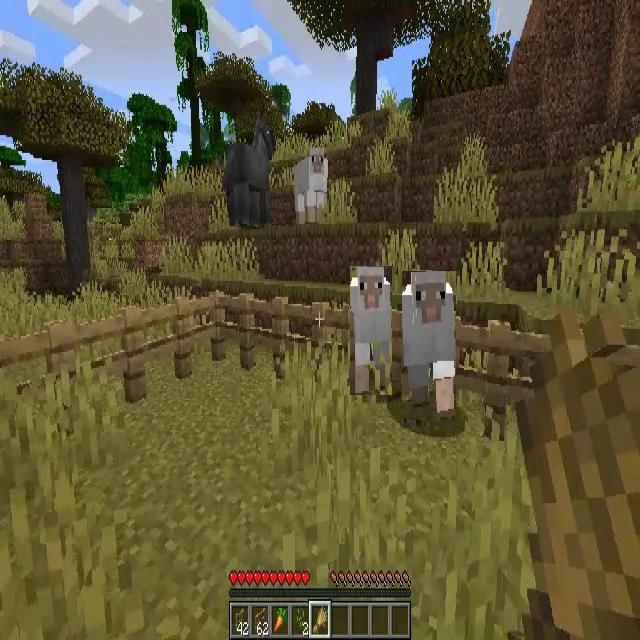sheep: (402, 271, 456, 419), (350, 266, 392, 395), (292, 147, 328, 225)
